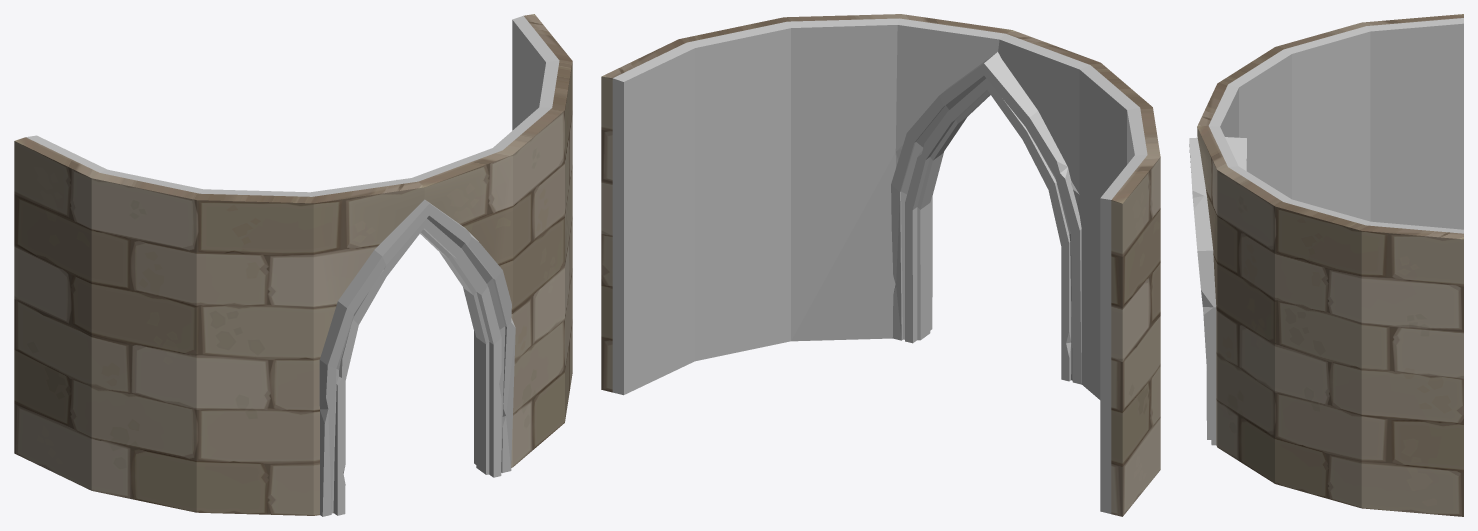
File: SM_Bld_Wall_Doorway_Curved_Double_01.fbx
3 views of the same model, side by side, from view 1: azimuth 30°, elevation 25°; view 2: azimuth 150°, elevation 25°; view 3: azimuth 270°, elevation 25° (orthographic). The views are drawn at different scales.
Parts seen in each view (by area): view 1: SM_Bld_Wall_Doorway_Curved_Double_01; view 2: SM_Bld_Wall_Doorway_Curved_Double_01; view 3: SM_Bld_Wall_Doorway_Curved_Double_01.
Boxes of the visible parts, x1,y1,x2,y2 form: SM_Bld_Wall_Doorway_Curved_Double_01: [14, 14, 572, 516]; SM_Bld_Wall_Doorway_Curved_Double_01: [601, 14, 1160, 516]; SM_Bld_Wall_Doorway_Curved_Double_01: [1189, 14, 1463, 516].
Bounding box in the file's own units: 522 × 301 × 269.
